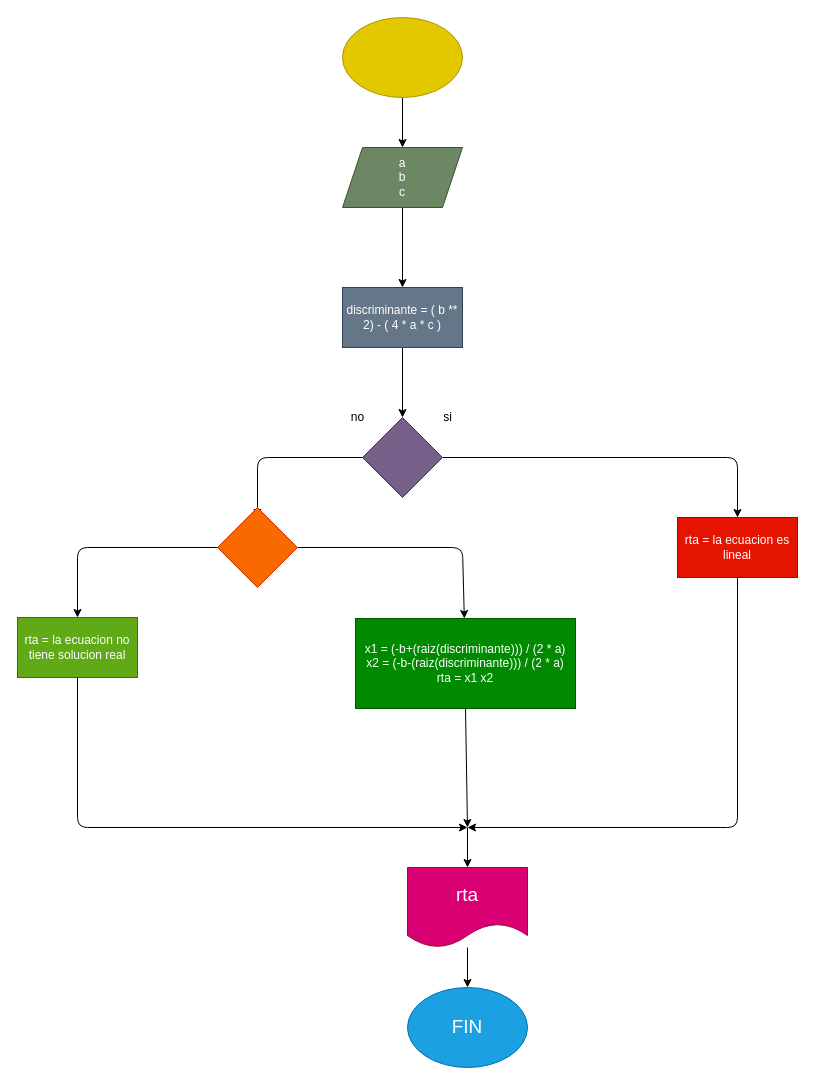
Some shapes in this 815 by 1085 pixel diagram are drawn without their labels. Here are the shapes that lost their labels. From the top down, the centre of each, then its label:
At [402,57]: "INICIO".
At [402,457]: "a = 0".
At [257,547]: "discriminante < 0".
